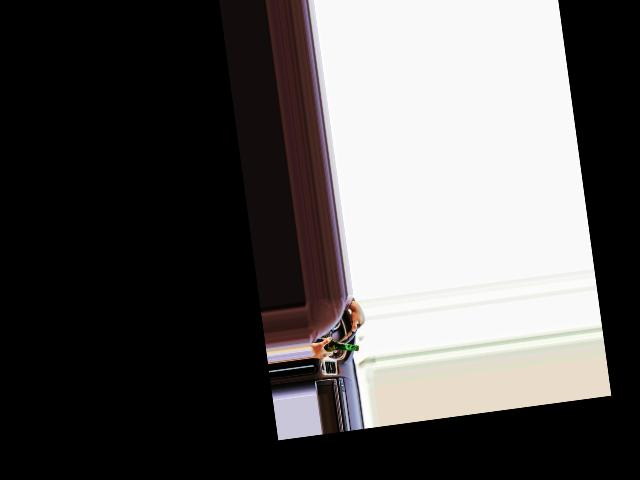beer: (310, 331, 359, 357)
